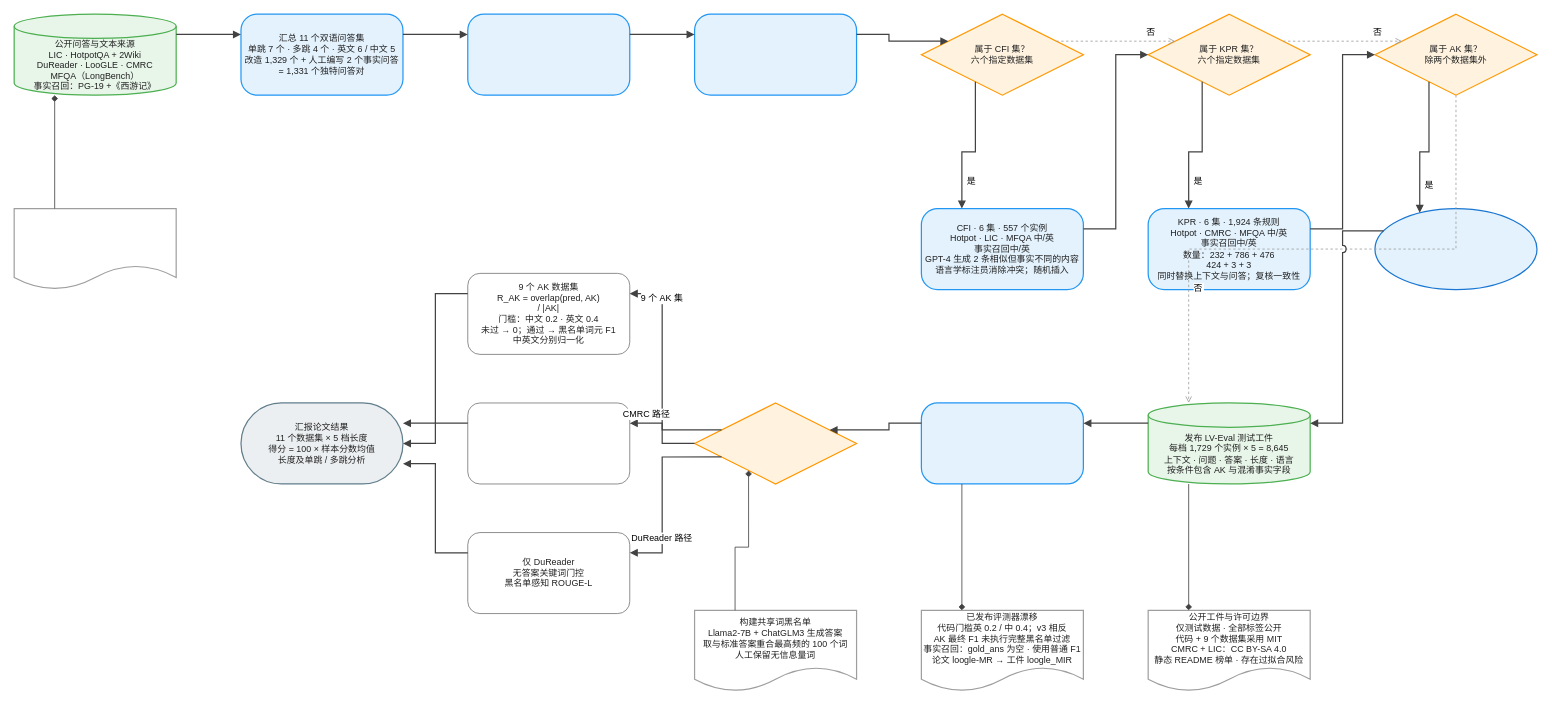
The diagram is 1552 pixels wide and 706 high, and some of its shapes have lost their labels. Here are the shapes that lost their labels. From the top down, the centre of each, then its label:
At (548,54): "混合支持文档与干扰文档 常规集：同源未选问答的上下文 Hotpot / DuReader：打散多份支持证据 采样 → 随机排序 → 前缀 Passage i".
At (775,54): "生成五档长度 16K · 32K · 64K · 128K · 256K 常规集：每问答每档一个上下文 事实召回：每档 200 个均匀证据位置".
At (94,249): "证据边界 论文：arXiv:2402.05136v3 Git 63e7ae9 · HF 86a3b0e 主流程以论文 v3 为准".
At (1455,249): "AK · 9 集 · 955 个实例 除 CMRC 与 DuReader 外全部适用 标注答案的关键内容 两名标注员 · 一个工作日".
At (548,443): "仅 CMRC 无答案关键词门控 黑名单感知中文词元 F1".
At (775,443): "论文 v3 选择指标路径".
At (1002,443): "使用各数据集专用零样本提示 直接作答 · 无统一解析器 贪心解码：常规 64 · 事实召回 16 超窗：保留头部与尾部".
